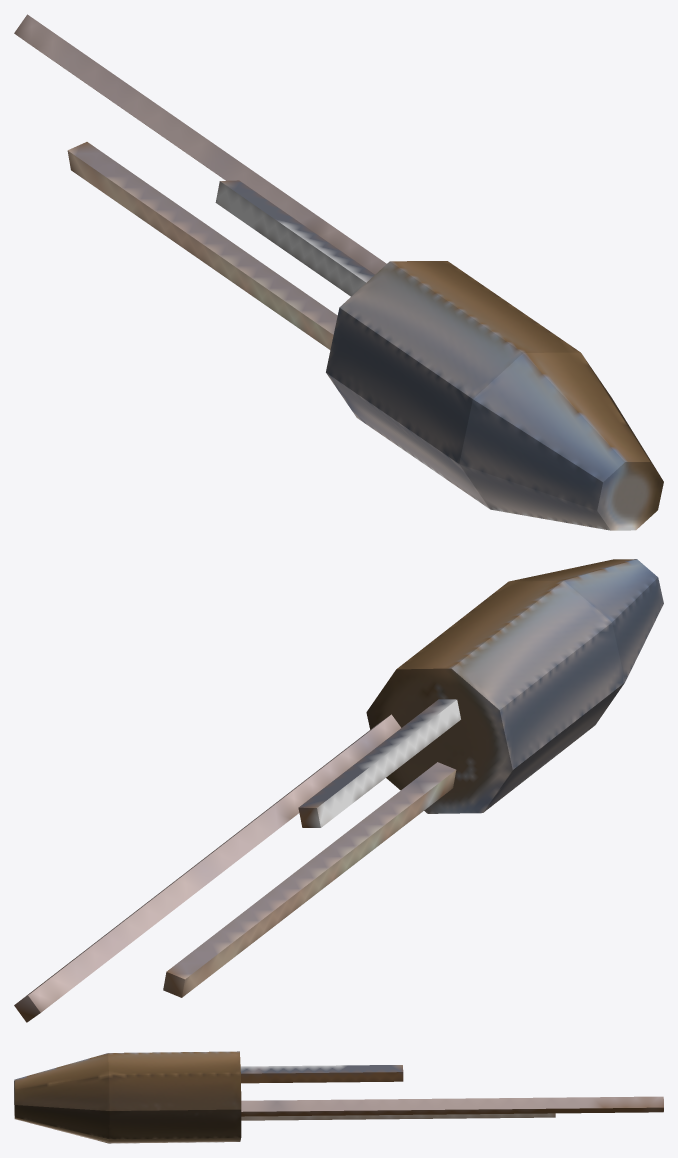
3 renders of one model, top to bottom at view 1: azimuth 30°, elevation 25°; view 2: azimuth 150°, elevation 25°; view 3: azimuth 270°, elevation 25°, orthographic. The views are drawn at different scales.
Visible parts, largest first — view 1: Bala_Cylinder.003, Estela_3_Cube.008, Estela_1_Cube.006, Estela_2_Cube.007; view 2: Bala_Cylinder.003, Estela_3_Cube.008, Estela_1_Cube.006, Estela_2_Cube.007; view 3: Bala_Cylinder.003, Estela_1_Cube.006, Estela_2_Cube.007, Estela_3_Cube.008.
Part boxes in pixels (x1,y1,x2,y2): Bala_Cylinder.003: (326, 261, 663, 530); Estela_3_Cube.008: (67, 142, 337, 349); Estela_1_Cube.006: (14, 14, 386, 274); Estela_2_Cube.007: (215, 180, 374, 296); Bala_Cylinder.003: (366, 559, 663, 813); Estela_3_Cube.008: (163, 762, 456, 997); Estela_1_Cube.006: (14, 714, 400, 1022); Estela_2_Cube.007: (298, 699, 460, 827); Bala_Cylinder.003: (14, 1051, 241, 1143); Estela_1_Cube.006: (241, 1096, 663, 1116); Estela_2_Cube.007: (240, 1065, 403, 1083); Estela_3_Cube.008: (241, 1113, 555, 1120).
Size of what is drawn, in the model's own units: 0.2878 by 0.2769 by 1.94.
